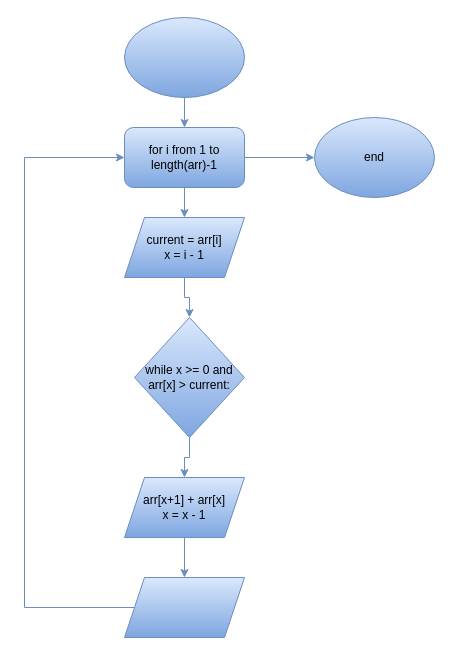
Image size: 452x655. Some labels were removed from this diagram. Here are the shapes that lost their labels. From the top down, the centre of each, then its label:
the point at 184,57: Start InsertionSort (arr)
the point at 184,607: arr[x+1] = current
